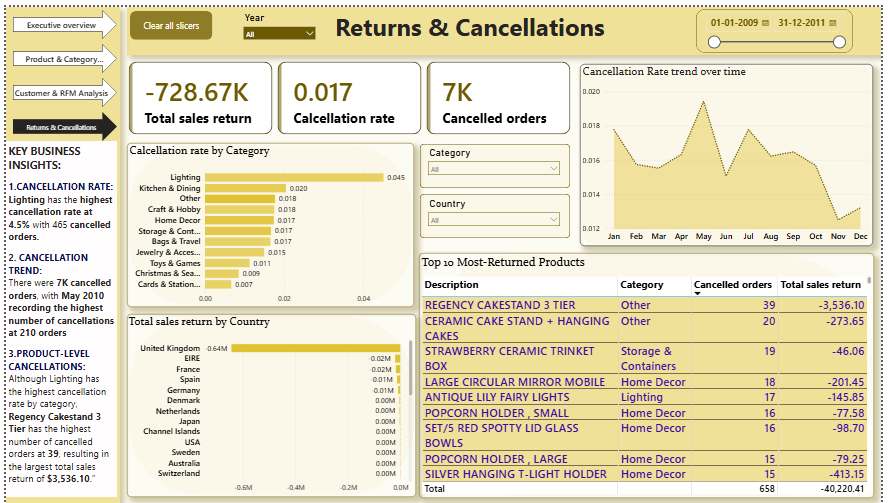

Layout of this report page (visuals, bound fields, positions):
{"tool":"powerbi","page":{"name":" Returns & Cancellations","canvas":[1750,1000],"ordinal":3},"visuals":[{"type":"shape","box":[242,614,578,366],"z":0},{"type":"shape","box":[242,0,1608,96],"z":1000},{"type":"slicer","fields":{"Values":["Calendar.Date"]},"box":[954,636,184,202],"z":2000},{"type":"actionButton","box":[247.5,7.5,165,57.5],"z":3000},{"type":"shape","box":[1148,114,586,364],"z":4000},{"type":"textbox","box":[572,0,698,94],"z":5000},{"type":"shape","box":[826,492,910,490],"z":6000},{"type":"tableEx","title":"Top 10 Most-Returned Products","fields":{"Values":["Dim_product.Description","Dim_product.Category","1 measures table.Cancelled orders","1 measures table.total sales return"]},"box":[826,494,910,486],"z":7000},{"type":"shape","box":[242,272,574,328],"z":8000},{"type":"cardVisual","fields":{"Data":["1 measures table.total sales return","1 measures table.Calcellation rate","1 measures table.Cancelled orders"]},"box":[228,92,920,180],"z":9000},{"type":"areaChart","title":"Cancellation Rate trend over time","fields":{"Category":["Calendar.date Hierarchy.Year","Calendar.date Hierarchy.quarter","Calendar.date Hierarchy.Month name"],"Y":["1 measures table.Calcellation rate"]},"box":[1148,114,584,364],"z":10000},{"type":"clusteredBarChart","fields":{"Category":["Dim_product.Category"],"Y":["1 measures table.Calcellation rate"]},"box":[242,272,574,330],"z":11000},{"type":"clusteredBarChart","fields":{"Category":["Fact_returns.Country"],"Y":["1 measures table.total sales return"]},"box":[240,614,578,366],"z":12000},{"type":"shape","box":[0,0,228,1000],"z":13000},{"type":"pageNavigator","box":[14,6,208,262],"z":14000},{"type":"shape","box":[828,274,300,88],"z":15000},{"type":"shape","box":[1380,4,314,88],"z":16000},{"type":"slicer","fields":{"Values":["Calendar.Date"]},"box":[1388,0,300,92],"z":17000},{"type":"slicer","fields":{"Values":["Dim_product.Category"]},"box":[834,274,284,116],"z":18000},{"type":"shape","box":[828,374,300,88],"z":19000},{"type":"slicer","fields":{"Values":["Dim_Customer.Country"]},"box":[834,376,284,86],"z":20000},{"type":"textbox","box":[0,268,222,712],"z":21000},{"type":"slicer","fields":{"Values":["Calendar.Year"]},"box":[464,4,166,66],"z":21001}]}

Visuals, with their boxes in screenshot pixels (x1, y1, x2, y2), scaled from the page's 1750x1000 canvas onto the 888x503 screenshot:
shape: <bbox>123, 309, 416, 493</bbox>
shape: <bbox>123, 0, 887, 48</bbox>
slicer - Calendar.Date: <bbox>484, 320, 577, 422</bbox>
actionButton: <bbox>126, 4, 209, 33</bbox>
shape: <bbox>583, 57, 880, 240</bbox>
textbox: <bbox>290, 0, 644, 47</bbox>
shape: <bbox>419, 247, 881, 494</bbox>
"Top 10 Most-Returned Products" tableEx: <bbox>419, 248, 881, 493</bbox>
shape: <bbox>123, 137, 414, 302</bbox>
cardVisual - 1 measures table.total sales return x 1 measures table.Calcellation rate: <bbox>116, 46, 583, 137</bbox>
"Cancellation Rate trend over time" areaChart: <bbox>583, 57, 879, 240</bbox>
clusteredBarChart - Dim_product.Category x 1 measures table.Calcellation rate: <bbox>123, 137, 414, 303</bbox>
clusteredBarChart - Fact_returns.Country x 1 measures table.total sales return: <bbox>122, 309, 415, 493</bbox>
shape: <bbox>0, 0, 116, 502</bbox>
pageNavigator: <bbox>7, 3, 113, 135</bbox>
shape: <bbox>420, 138, 572, 182</bbox>
shape: <bbox>700, 2, 860, 46</bbox>
slicer - Calendar.Date: <bbox>704, 0, 857, 46</bbox>
slicer - Dim_product.Category: <bbox>423, 138, 567, 196</bbox>
shape: <bbox>420, 188, 572, 232</bbox>
slicer - Dim_Customer.Country: <bbox>423, 189, 567, 232</bbox>
textbox: <bbox>0, 135, 113, 493</bbox>
slicer - Calendar.Year: <bbox>235, 2, 320, 35</bbox>
